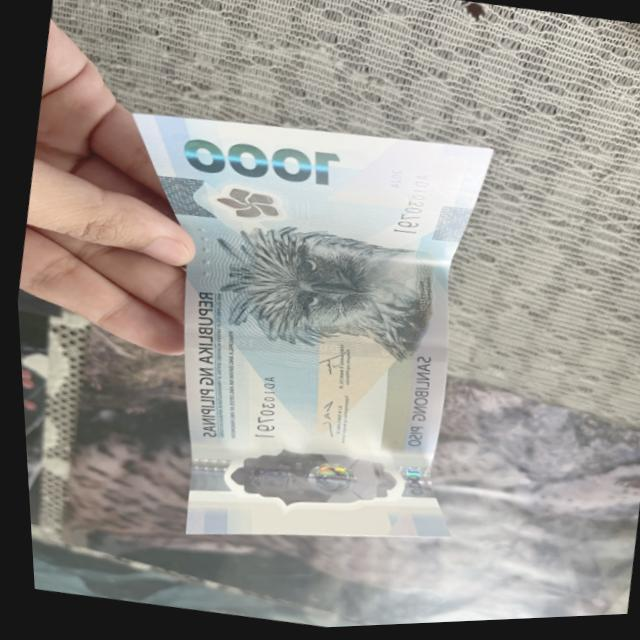clear_window: (169, 412, 444, 551)
eagle: (205, 216, 444, 372)
sampaguita: (192, 177, 315, 238)
security_thread: (178, 331, 442, 365)
serial_number: (237, 365, 292, 449)
